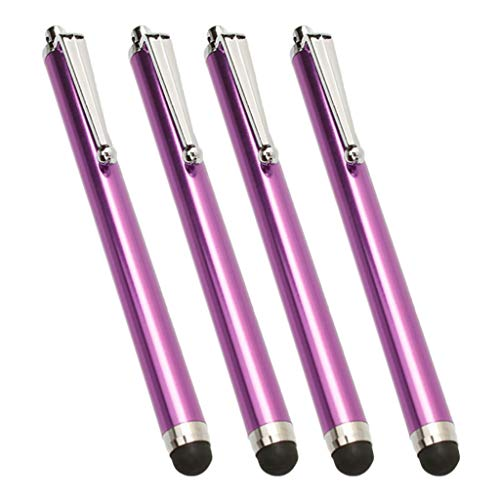Boligrafo: (118, 22, 308, 476), (192, 19, 377, 478), (36, 20, 221, 477), (287, 24, 465, 477)
